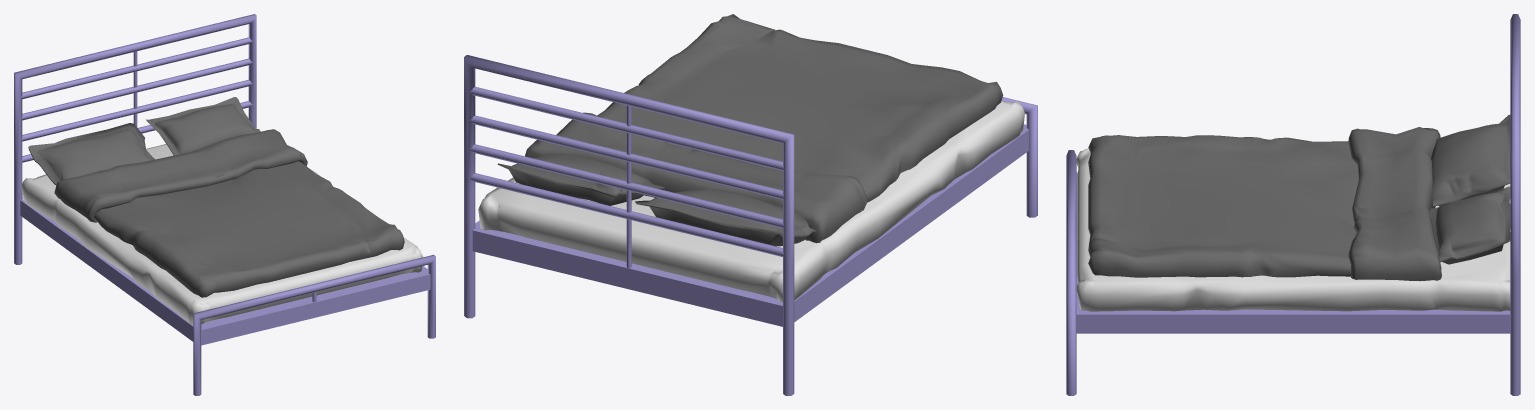
The model's file is HEIMDALBedframe.FBX.
The picture shows the model from 3 angles, left to right: view 1: azimuth 30°, elevation 25°; view 2: azimuth 150°, elevation 25°; view 3: azimuth 270°, elevation 25°; orthographic projection. The views are drawn at different scales.
Visible parts, largest first — view 1: HEIMDALBedframe; view 2: HEIMDALBedframe; view 3: HEIMDALBedframe.
Boxes of the visible parts, box(x1,y1,x2,y2) form: HEIMDALBedframe: box(14, 14, 435, 395); HEIMDALBedframe: box(464, 14, 1037, 395); HEIMDALBedframe: box(1066, 14, 1520, 395).
Size of the model in its own units: 158 by 209 by 120.
